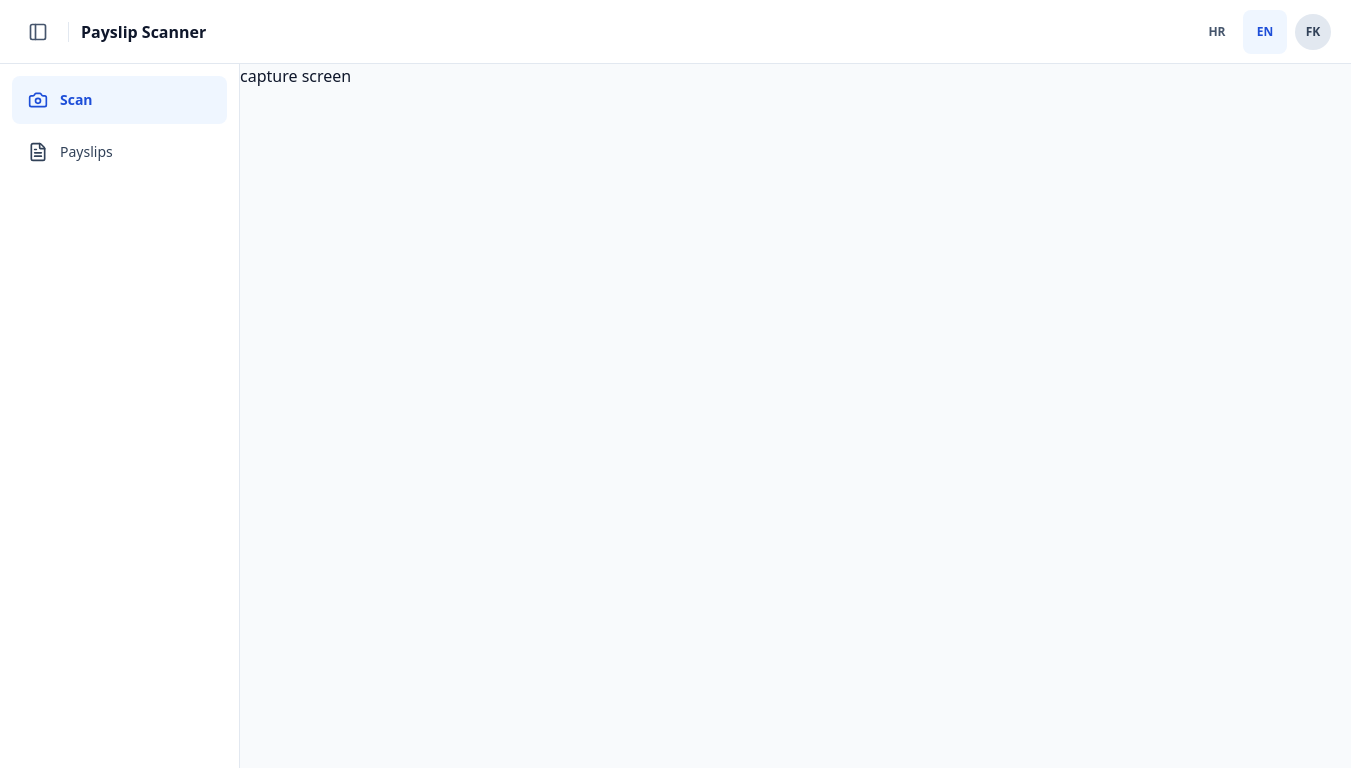
Test: AppLayout › closes the account panel when a pointer lands outside it
The image size is (1366, 768).
Click the button with aria-label "User menu" at (1313, 32), box [1291, 10, 1335, 54]
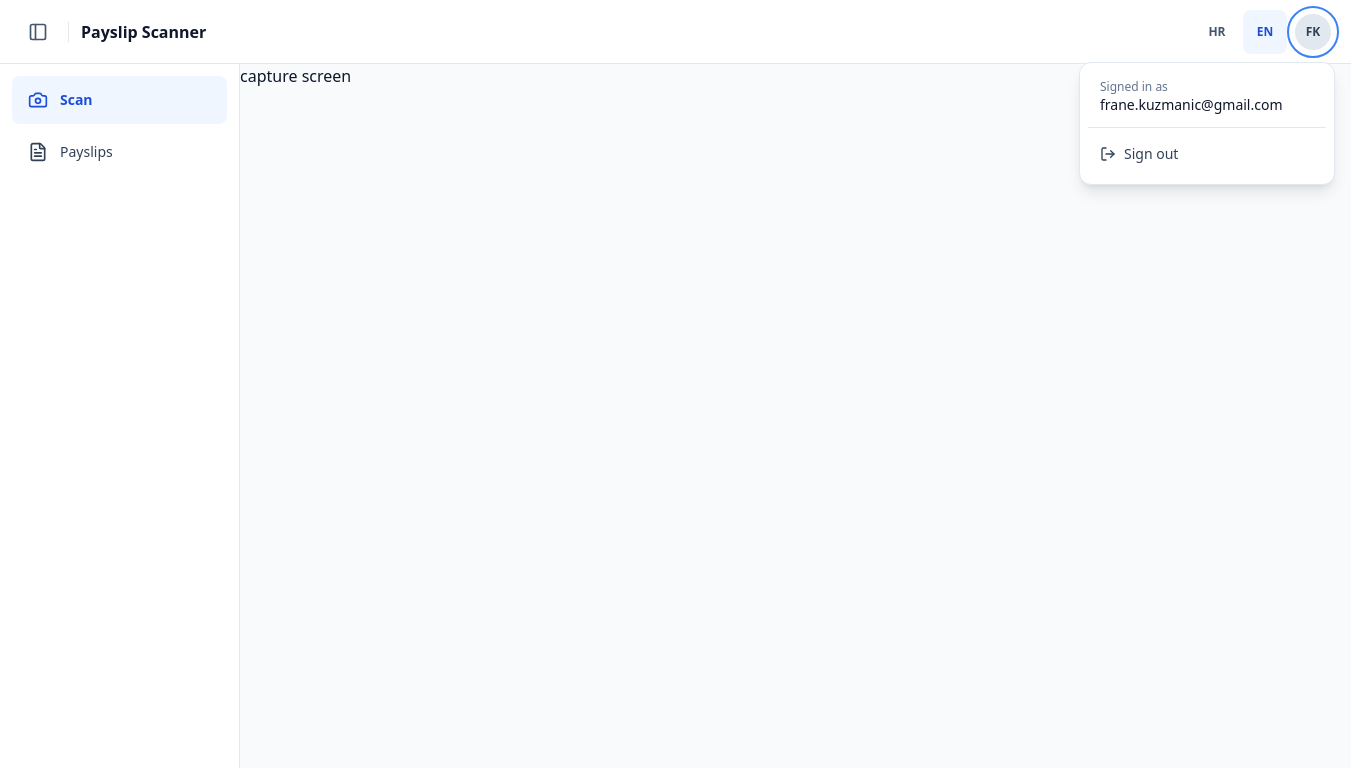
Expected: the text "Signed in as" is shown, [1100, 78, 1168, 94]
Click the text "capture screen" at (296, 76), box [240, 65, 351, 87]
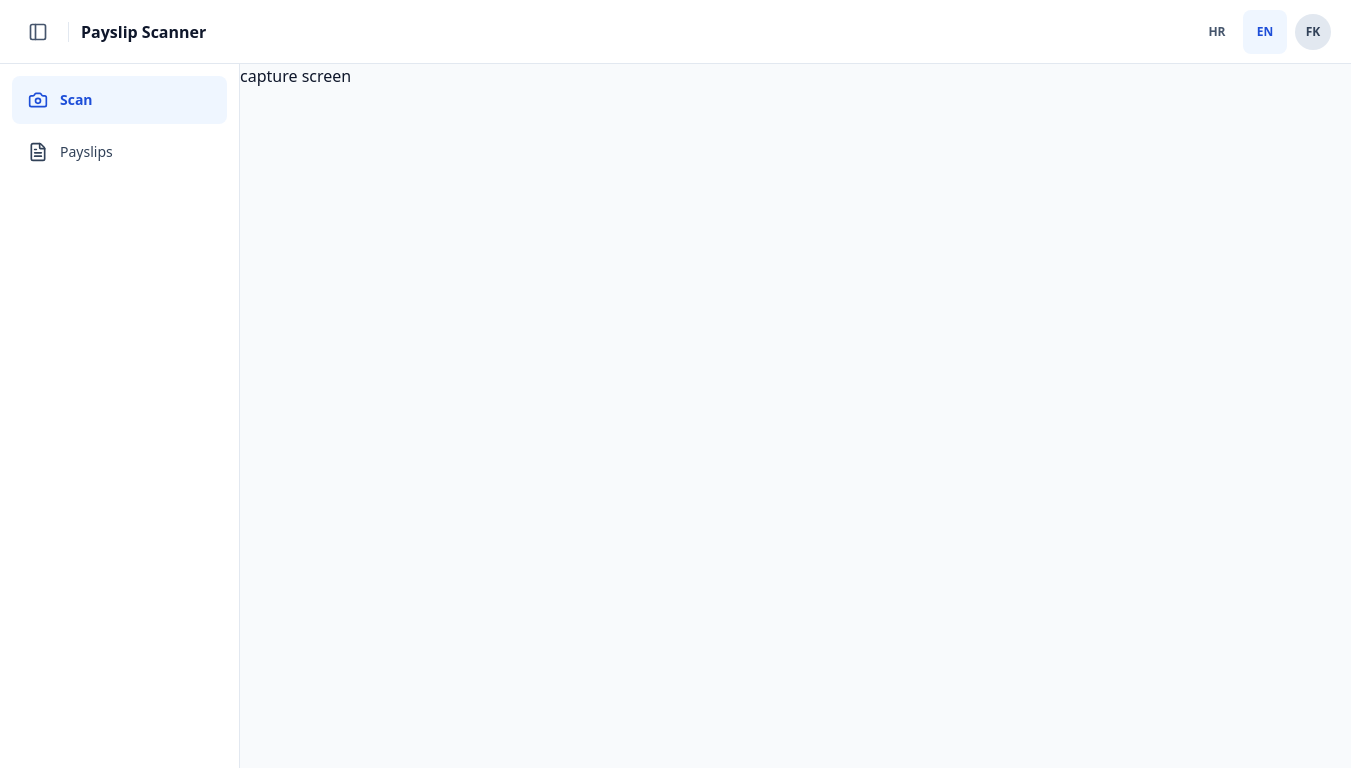
Expected: the text "Signed in as" is gone
